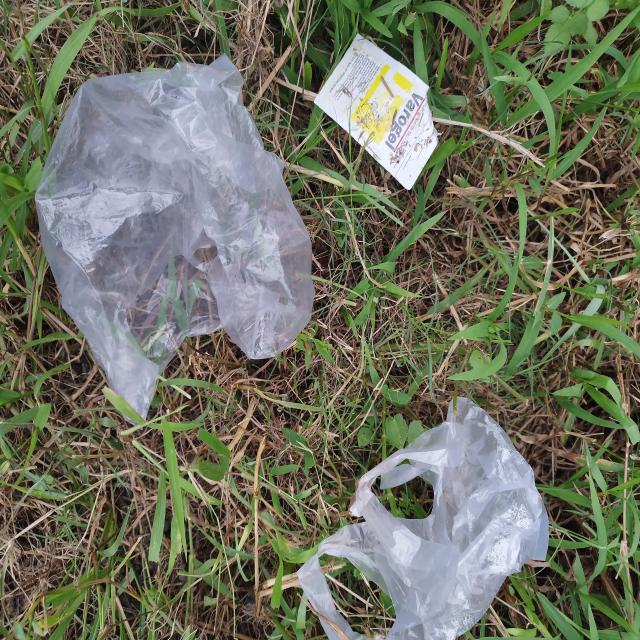bag: (35, 57, 315, 430), (297, 396, 549, 640)
packet: (314, 35, 438, 191)
